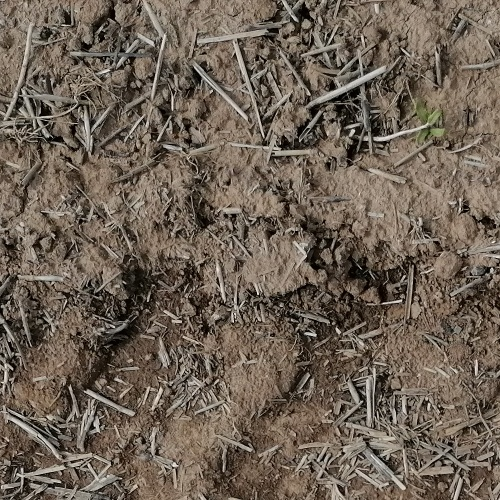beet: (410, 99, 448, 143)
